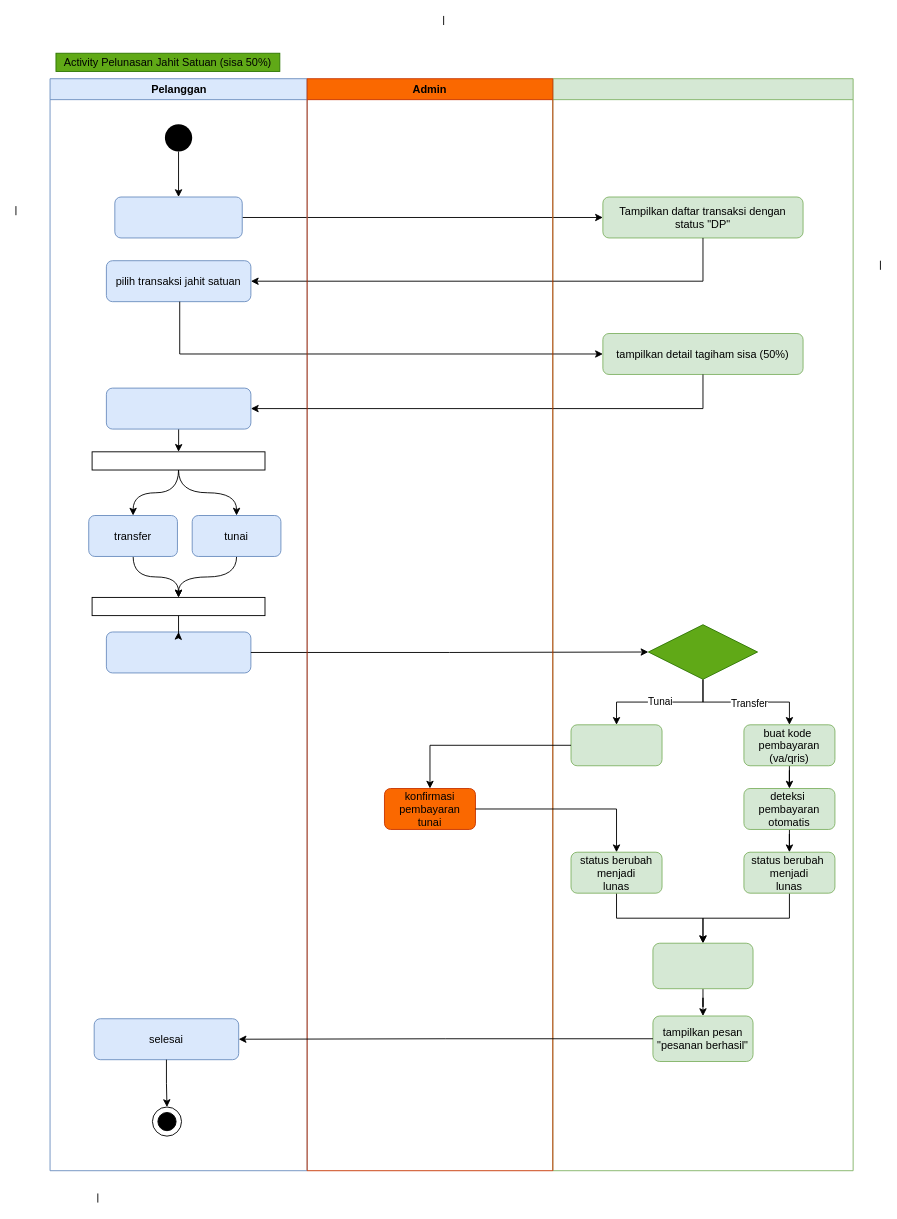
The diagram is 897 pixels wide and 1219 high, and some of its shapes have lost their labels. The box of each missing label's shape, as (x1, y1, x2, y2) in pixels:
Buka menu Pelunasan: (114, 196, 242, 238)
generate dokumen transaksi (kwitansi: (652, 942, 753, 989)
klik bayar: (105, 631, 251, 673)
menunggu konfirmasi tunai: (570, 724, 662, 766)
metode pembayaran: (647, 624, 758, 679)
pilih metode pembayaran (transfer/tunai): (105, 387, 251, 429)
Sistem: (552, 78, 853, 1171)
